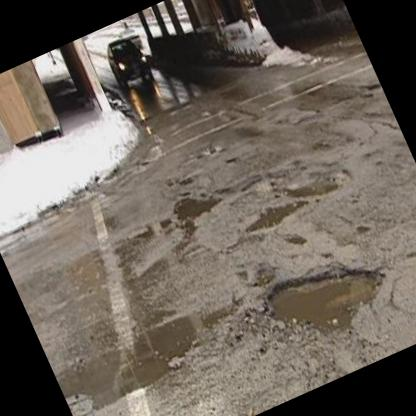pothole: (50, 304, 214, 416), (253, 238, 398, 358), (271, 152, 356, 218), (238, 190, 310, 238), (166, 178, 226, 228)
